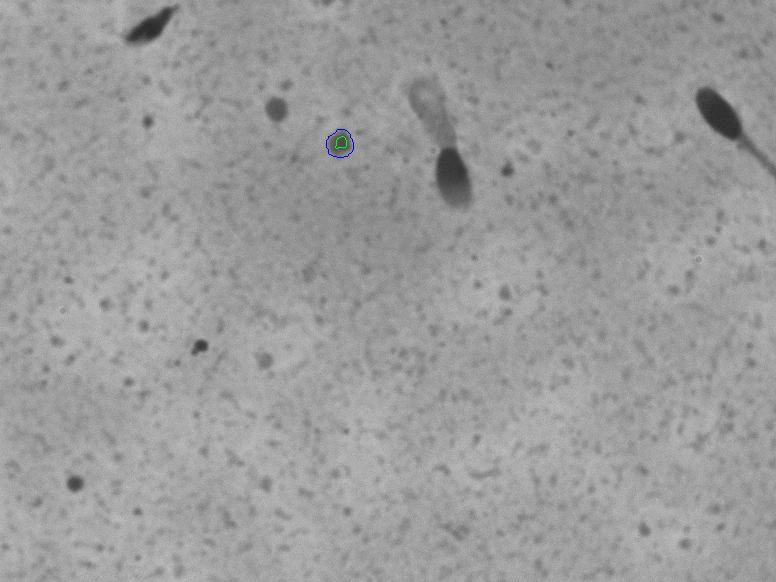Abnormal: (372, 47, 503, 244)
